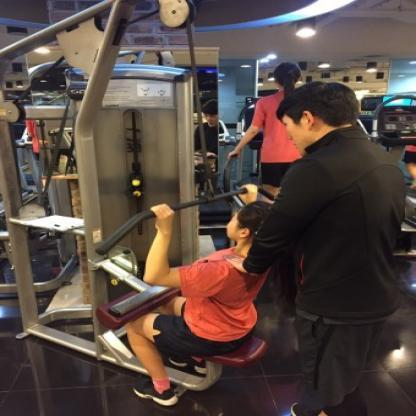Lat Pull Down: (0, 0, 344, 416)
